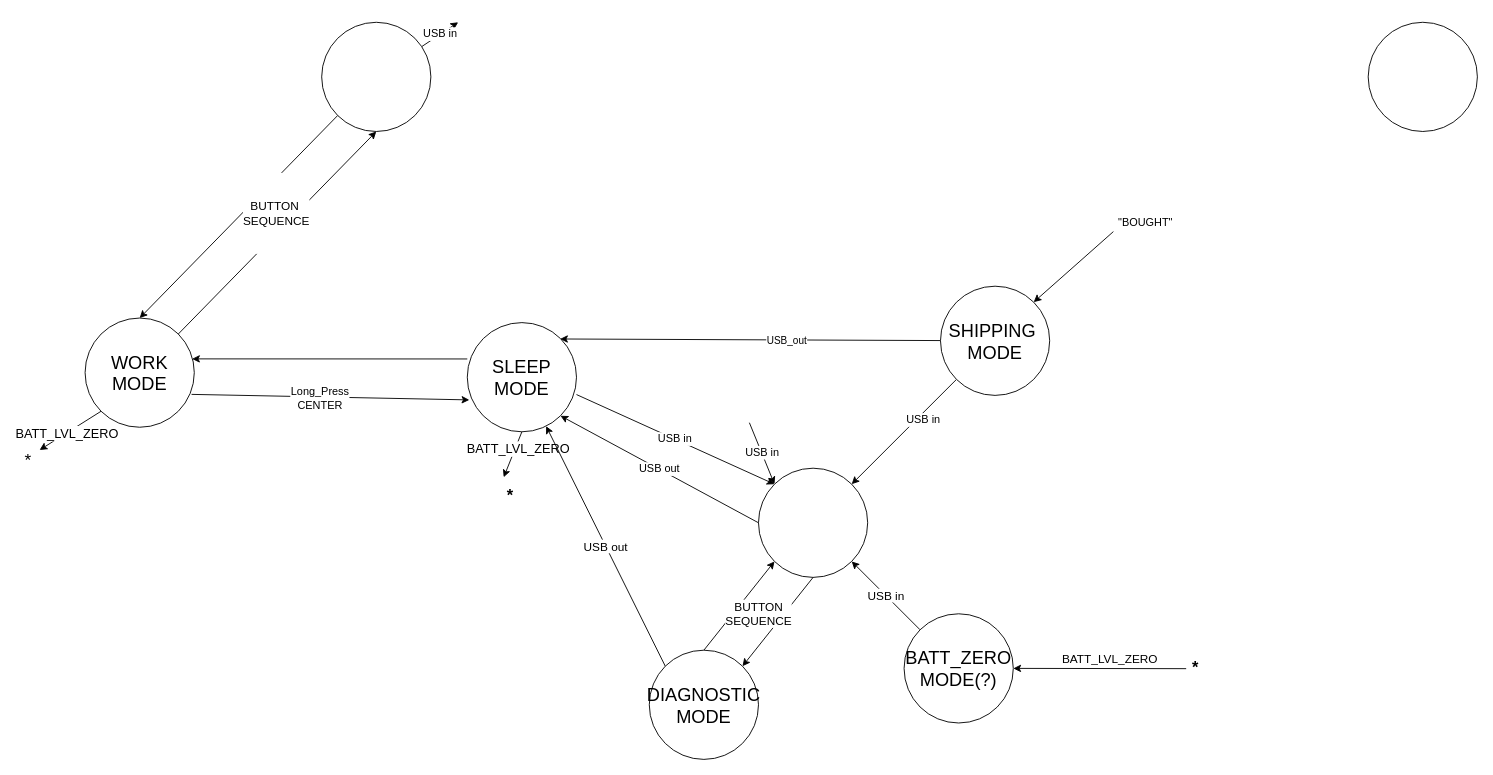
Image size: 1493x775. Some labels were removed from this diagram. Each missing label, with the centre of its shape:
"CHARGING MODE" goes at point 813,522.
"ERROR MODE" goes at point 1422,76.
"SYNC MODE" goes at point 376,76.
